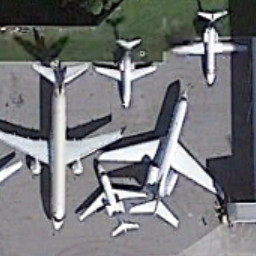Airplane: (2, 48, 125, 230), (97, 85, 228, 228), (167, 6, 251, 90), (77, 152, 147, 240), (92, 32, 158, 112)
